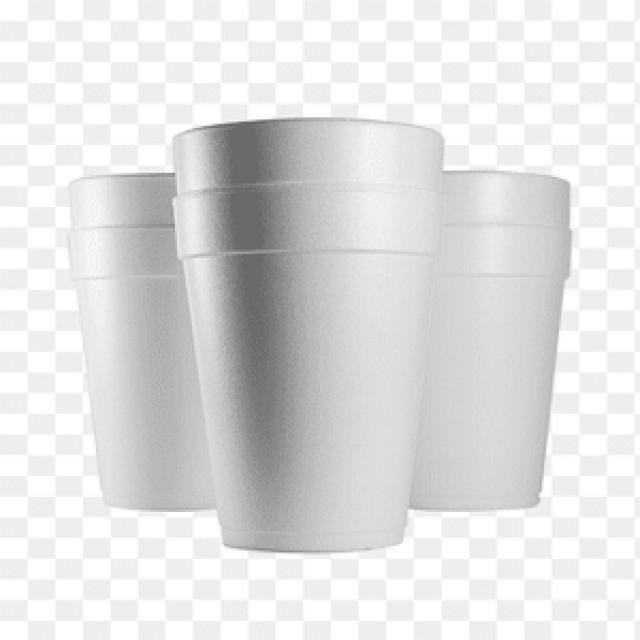plastic cup: (171, 115, 448, 557), (403, 162, 576, 521), (64, 168, 218, 518)
